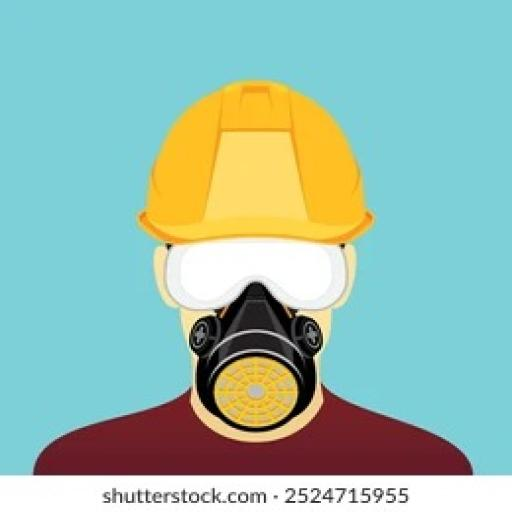mask: (162, 302, 354, 430)
